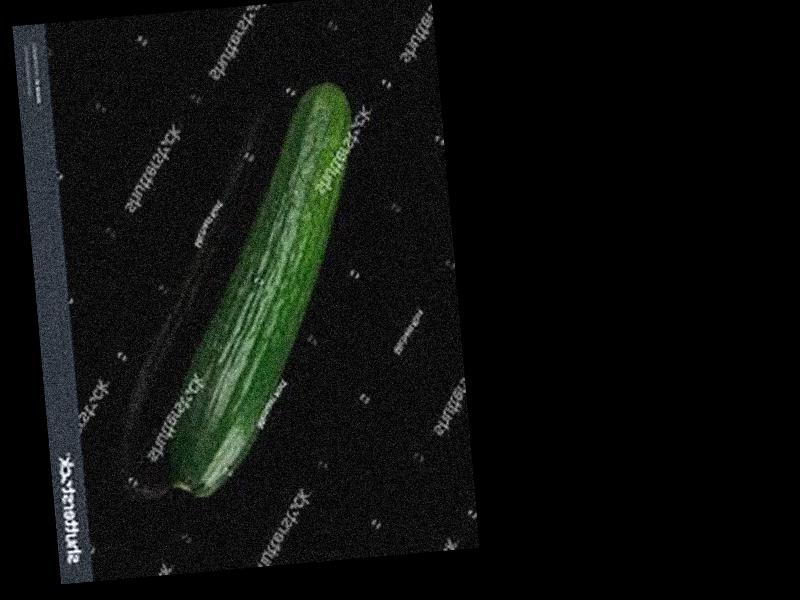Cucumber: (131, 78, 384, 500)
